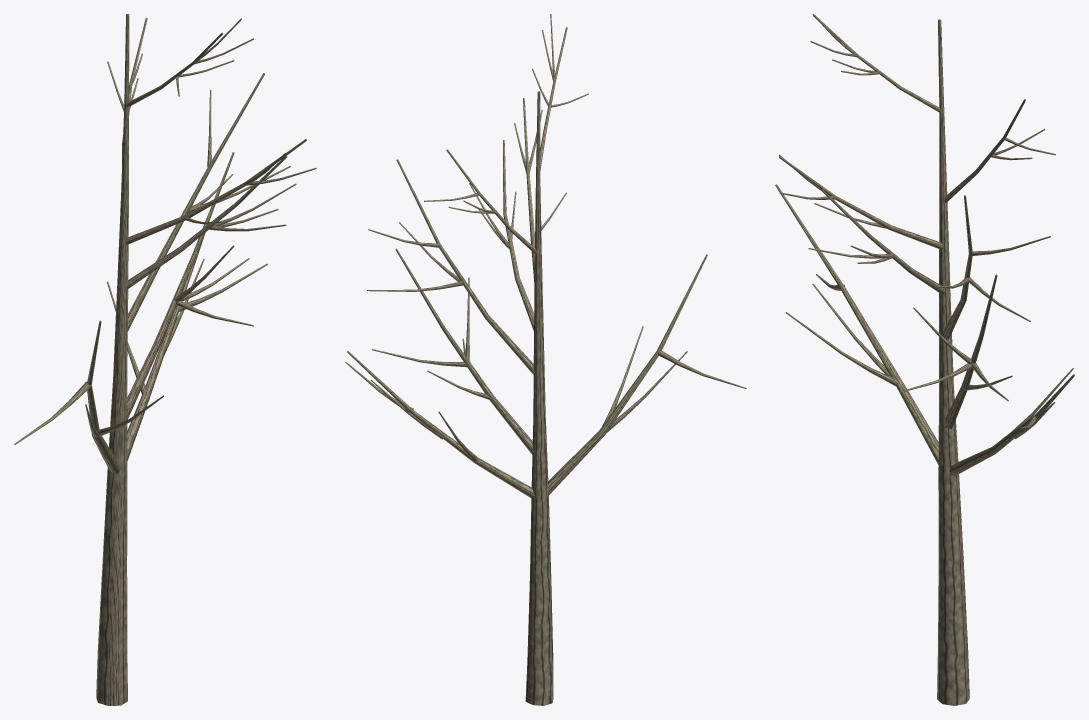
The model's file is saplingTrunkLOD1.obj.
3 views of the same model, side by side, from view 1: azimuth 30°, elevation 25°; view 2: azimuth 150°, elevation 25°; view 3: azimuth 270°, elevation 25° (orthographic). The views are drawn at different scales.
Visible parts, largest first — view 1: LuaSaplingTrunkLOD1; view 2: LuaSaplingTrunkLOD1; view 3: LuaSaplingTrunkLOD1.
Boxes of the visible parts, x1,y1,x2,y2 form: LuaSaplingTrunkLOD1: (14,14,316,705); LuaSaplingTrunkLOD1: (345,14,746,705); LuaSaplingTrunkLOD1: (775,14,1074,705).
Bounding box in the file's own units: 1.66 × 3.21 × 1.22.
